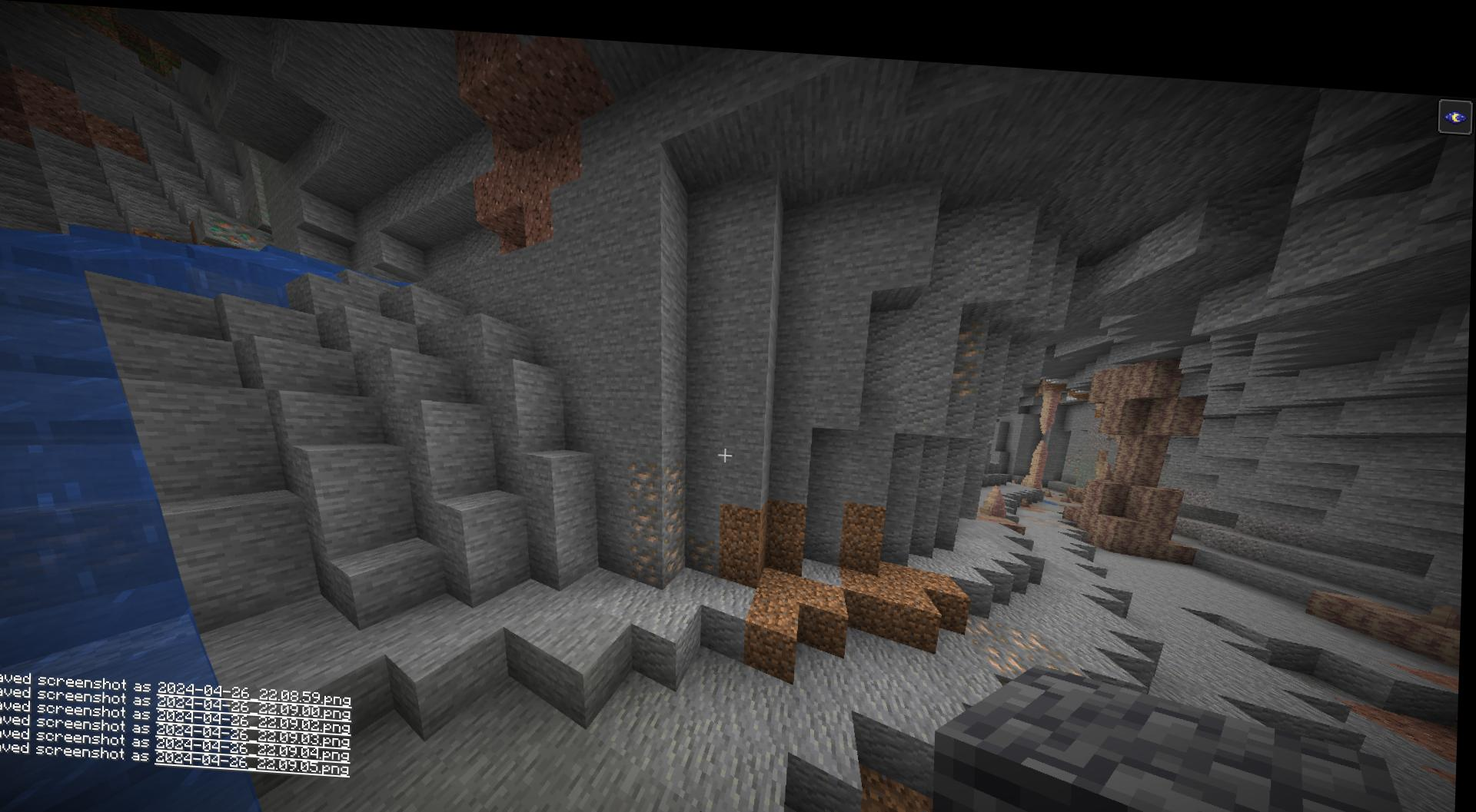iron ore: (969, 600, 1082, 671), (625, 446, 689, 495), (954, 309, 990, 388), (631, 524, 687, 571), (633, 490, 688, 534), (684, 523, 726, 568)
